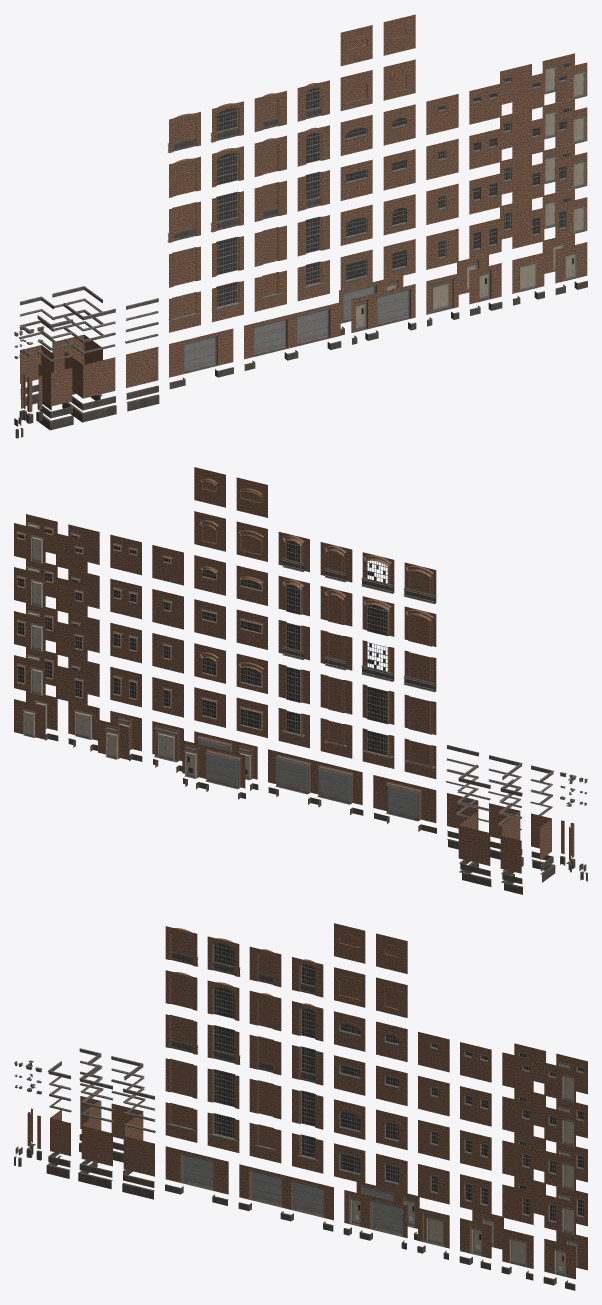
Rendered from modular_factory_facade.glb.
3 views of the same model, one above another, from view 1: azimuth 30°, elevation 25°; view 2: azimuth 150°, elevation 25°; view 3: azimuth 330°, elevation 25° (orthographic).
Visible parts, largest first — view 1: door_garage_double_01, wall_standard_corner_large_01, wall_door_garage_double_01, door_garage_door_01, wall_door_garage_centered_01, wall_window_centered_medium_05, wall_window_tall_small_09, wall_standard_standard_01, wall_window_centered_large_05, wall_window_centered_medium_06, wall_window_tall_small_07, wall_window_centered_large_06 (+57 smaller); view 2: door_garage_double_01, door_garage_door_02, wall_door_garage_double_01, wall_door_garage_centered_01, wall_standard_corner_large_02, wall_window_tall_large_09, wall_window_tall_small_09, wall_window_tall_large_07, wall_window_tall_small_07, wall_window_tall_small_06, wall_window_tall_large_06, wall_window_centered_medium_06 (+62 smaller); view 3: door_garage_double_01, wall_door_garage_double_01, door_garage_door_01, wall_door_garage_centered_01, wall_standard_corner_large_01, wall_window_tall_large_09, wall_window_tall_large_07, wall_window_tall_small_07, wall_window_tall_small_09, wall_window_tall_small_06, wall_window_centered_large_05, wall_window_tall_large_06 (+67 smaller).
Part boxes in pixels (<box>): door_garage_double_01: <box>253,307,331,356</box>; wall_standard_corner_large_01: <box>64,352,115,398</box>; wall_door_garage_double_01: <box>244,302,340,359</box>; door_garage_door_01: <box>355,288,412,331</box>; wall_door_garage_centered_01: <box>169,328,233,377</box>; wall_window_centered_medium_05: <box>383,59,415,100</box>; wall_window_tall_small_09: <box>254,135,286,176</box>; wall_standard_standard_01: <box>126,347,158,387</box>; wall_window_centered_large_05: <box>340,70,372,110</box>; wall_window_centered_medium_06: <box>383,14,415,55</box>; wall_window_tall_small_07: <box>254,225,286,266</box>; wall_window_centered_large_06: <box>340,25,372,66</box>; door_garage_double_01: <box>275,754,353,804</box>; door_garage_door_02: <box>184,744,241,789</box>; wall_door_garage_double_01: <box>268,749,362,805</box>; wall_door_garage_centered_01: <box>373,775,436,822</box>; wall_standard_corner_large_02: <box>458,812,490,865</box>; wall_window_tall_large_09: <box>404,606,436,646</box>; wall_window_tall_small_09: <box>320,586,352,626</box>; wall_window_tall_large_07: <box>404,694,436,734</box>; wall_window_tall_small_07: <box>320,674,352,714</box>; wall_window_tall_small_06: <box>320,718,352,758</box>; wall_window_tall_large_06: <box>404,738,436,778</box>; wall_window_centered_medium_06: <box>194,467,225,507</box>; door_garage_double_01: <box>248,1169,324,1217</box>; wall_door_garage_double_01: <box>239,1164,333,1220</box>; door_garage_door_01: <box>348,1194,403,1236</box>; wall_door_garage_centered_01: <box>165,1146,228,1194</box>; wall_standard_corner_large_01: <box>81,1112,112,1166</box>; wall_window_tall_large_09: <box>165,970,197,1010</box>; wall_window_tall_large_07: <box>165,1058,197,1098</box>; wall_window_tall_small_07: <box>249,1079,281,1119</box>; wall_window_tall_small_09: <box>249,991,281,1031</box>; wall_window_tall_small_06: <box>249,1123,281,1163</box>; wall_window_centered_large_05: <box>334,967,365,1007</box>; wall_window_tall_large_06: <box>165,1102,197,1142</box>.
Bounding box in the file's own units: 53.33 × 29 × 5.36.
6 materials, 6 textured.
